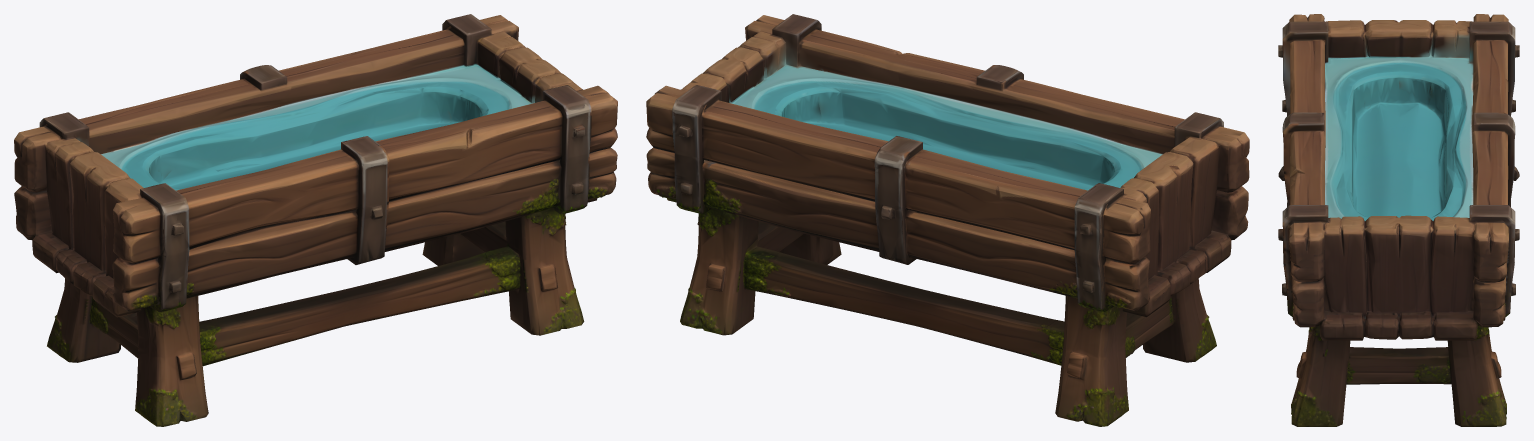
Rendered from trough-a.glb.
3 renders of one model, left to right at view 1: azimuth 30°, elevation 25°; view 2: azimuth 150°, elevation 25°; view 3: azimuth 270°, elevation 25°, orthographic. The views are drawn at different scales.
Parts seen in each view (by area): view 1: node_0; view 2: node_0; view 3: node_0.
Boxes of the visible parts, x1=… form: node_0: x1=14, y1=14, x2=617, y2=426; node_0: x1=646, y1=14, x2=1249, y2=426; node_0: x1=1278, y1=14, x2=1519, y2=426.
Size of the model in its own units: 1.05 by 0.4596 by 0.4769.
Materials: 1 (1 with a texture image).
